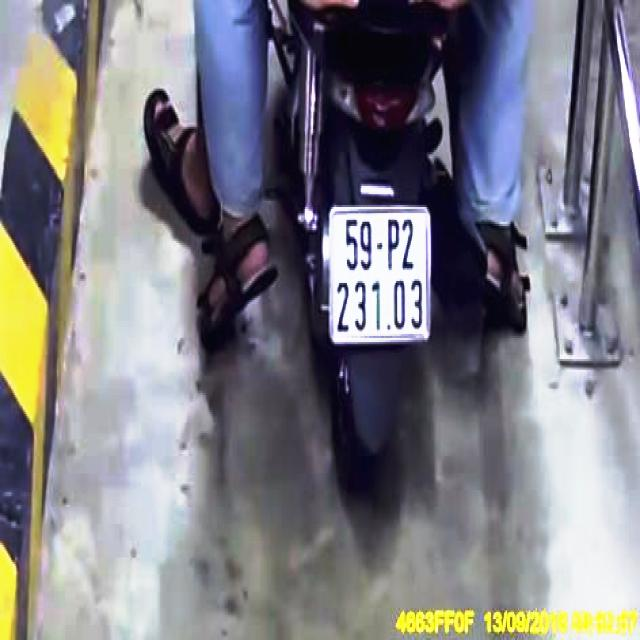license_plate: (331, 210, 433, 343)
